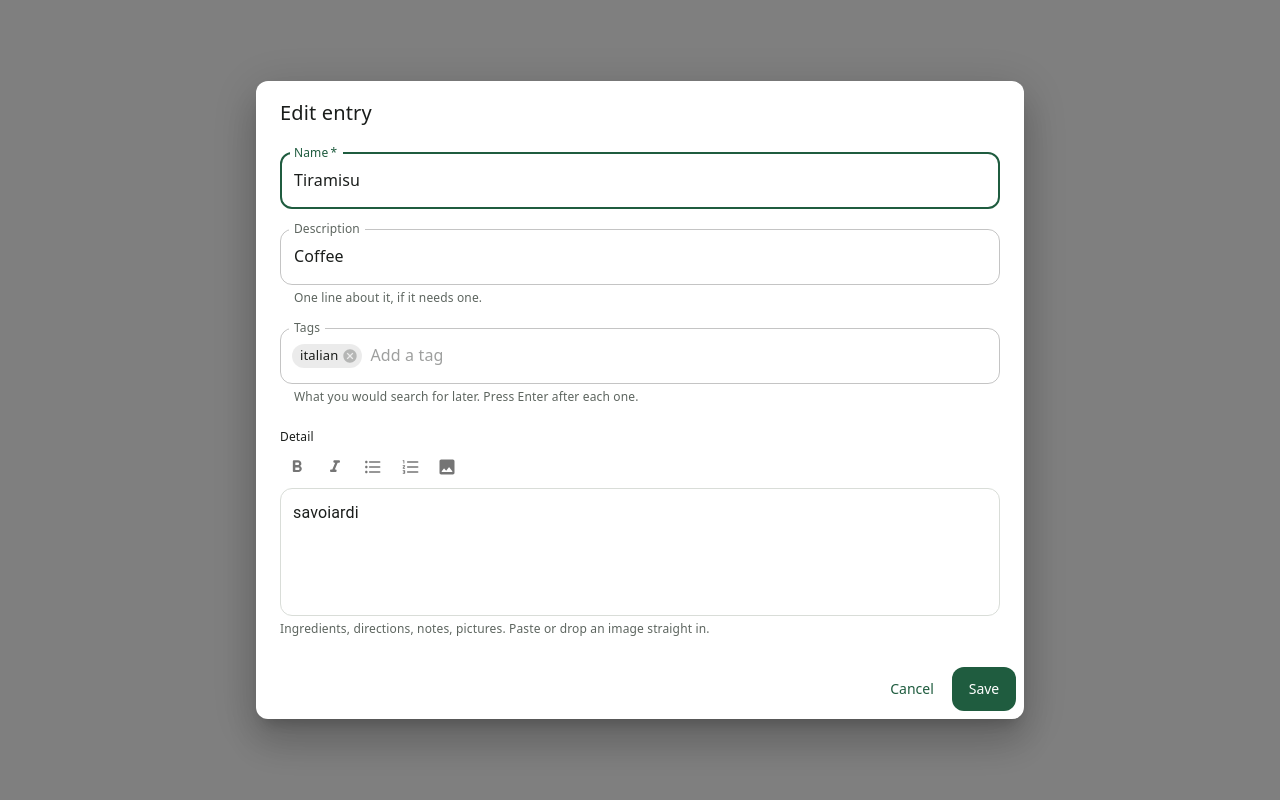
EntryForm › shows the server its own words on a conflict, and does not close
The width and height of the screenshot is (1280, 800).
Click the button "Save".
click(984, 689)  # box top-left (952, 667), bottom-right (1016, 711)
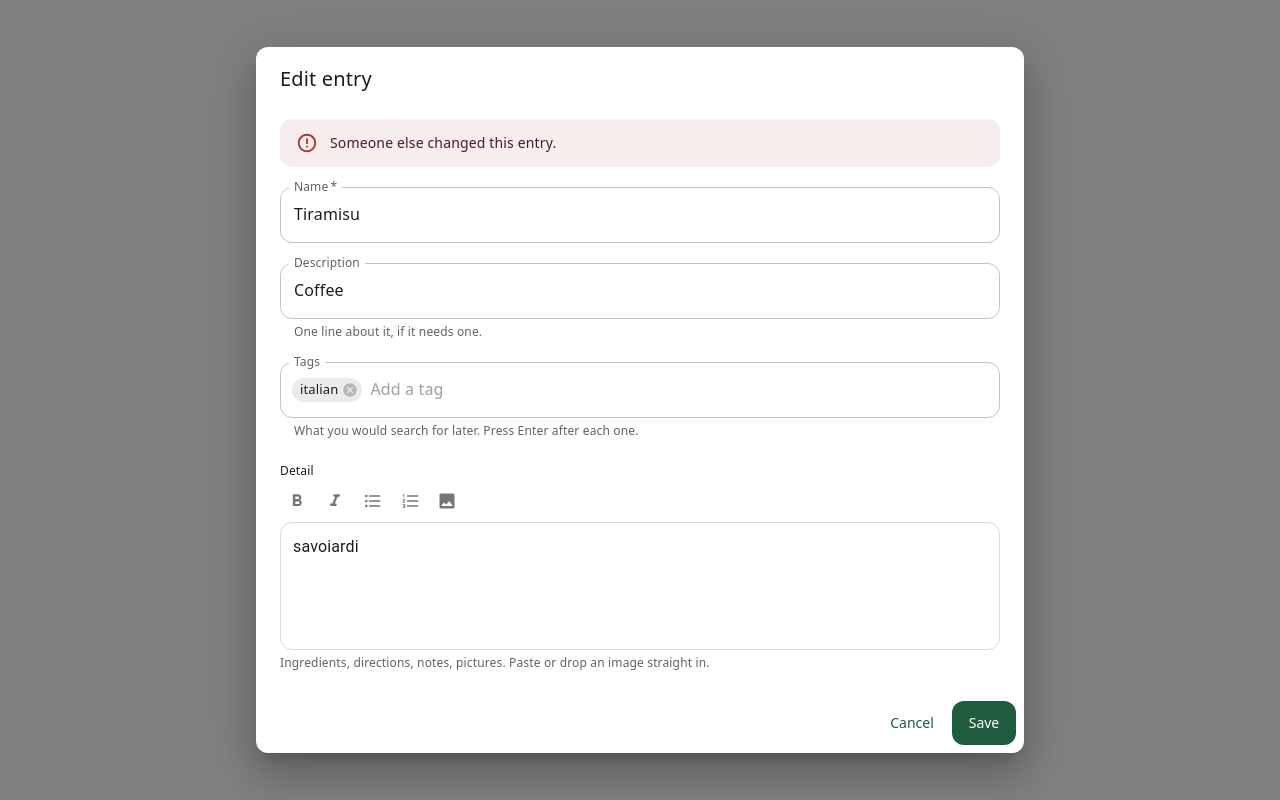
Expected: the text "Someone else changed this entry." is shown, top-left (330, 133), bottom-right (556, 152)
